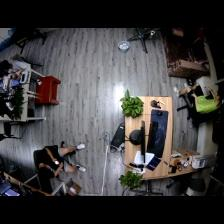normal: (28, 143, 88, 176), (176, 82, 222, 113), (2, 57, 38, 77)
